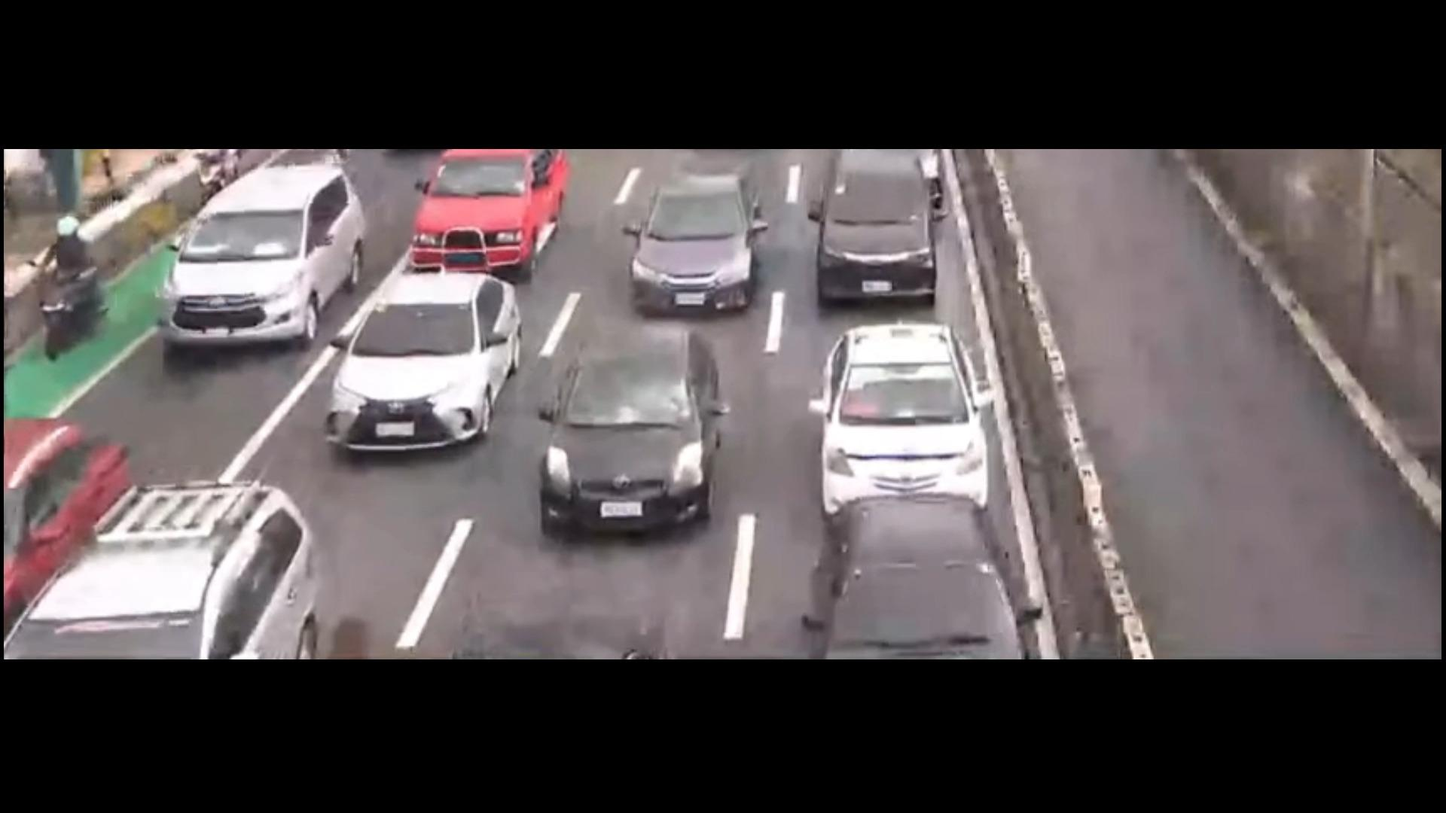Motorcycle: (36, 204, 108, 362)
SUV: (18, 487, 330, 652), (156, 161, 366, 356), (406, 133, 569, 265), (810, 151, 936, 309)
Sedan: (318, 274, 523, 458), (542, 322, 718, 531), (815, 321, 989, 528), (801, 502, 1011, 657), (636, 165, 759, 309)
